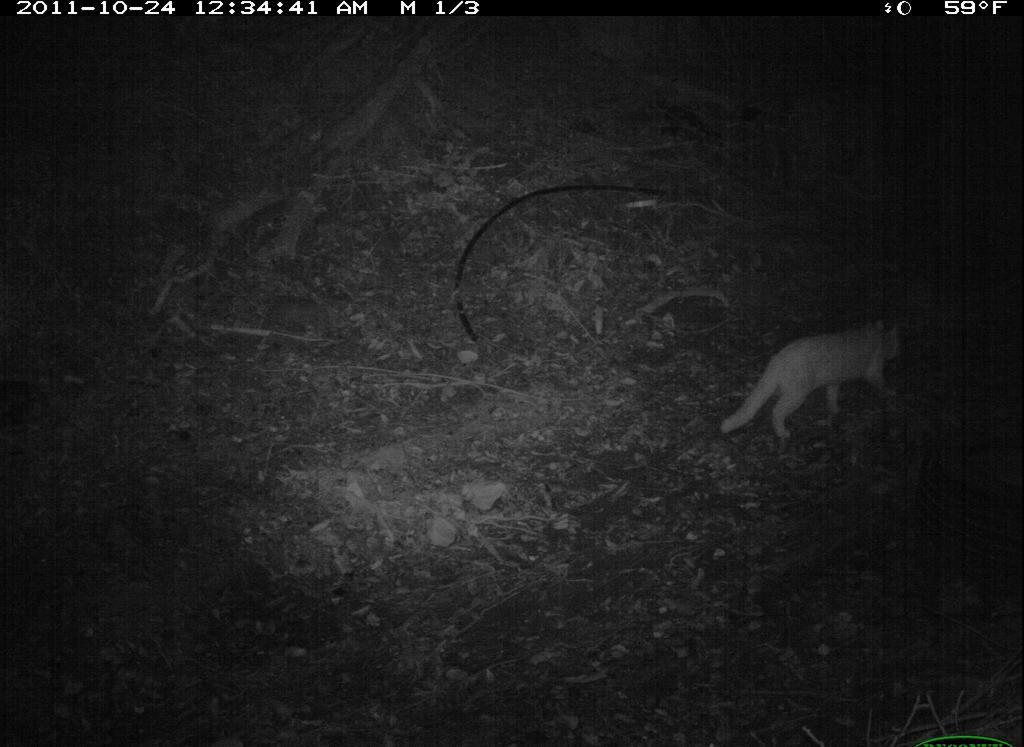cat: (721, 315, 921, 456)
